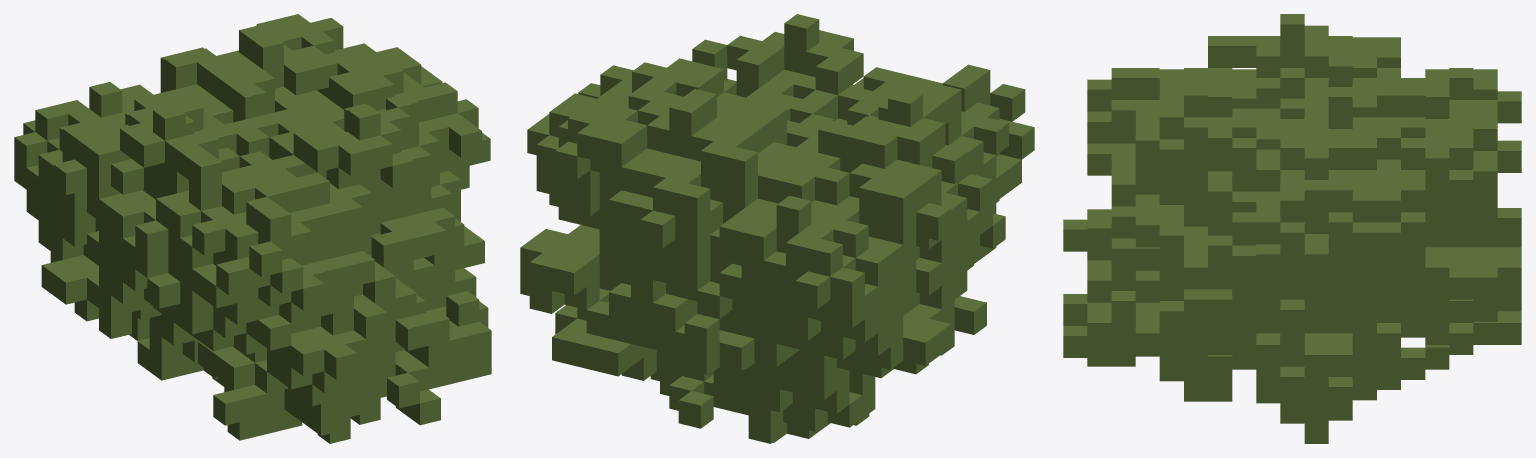
The model's file is good-8.obj.
The picture shows the model from 3 angles, left to right: view 1: azimuth 30°, elevation 25°; view 2: azimuth 150°, elevation 25°; view 3: azimuth 270°, elevation 25°; orthographic projection. The views are drawn at different scales.
Size of the model in its own units: 1.8 by 1.5 by 1.9.
Materials: 1 (1 with a texture image).
